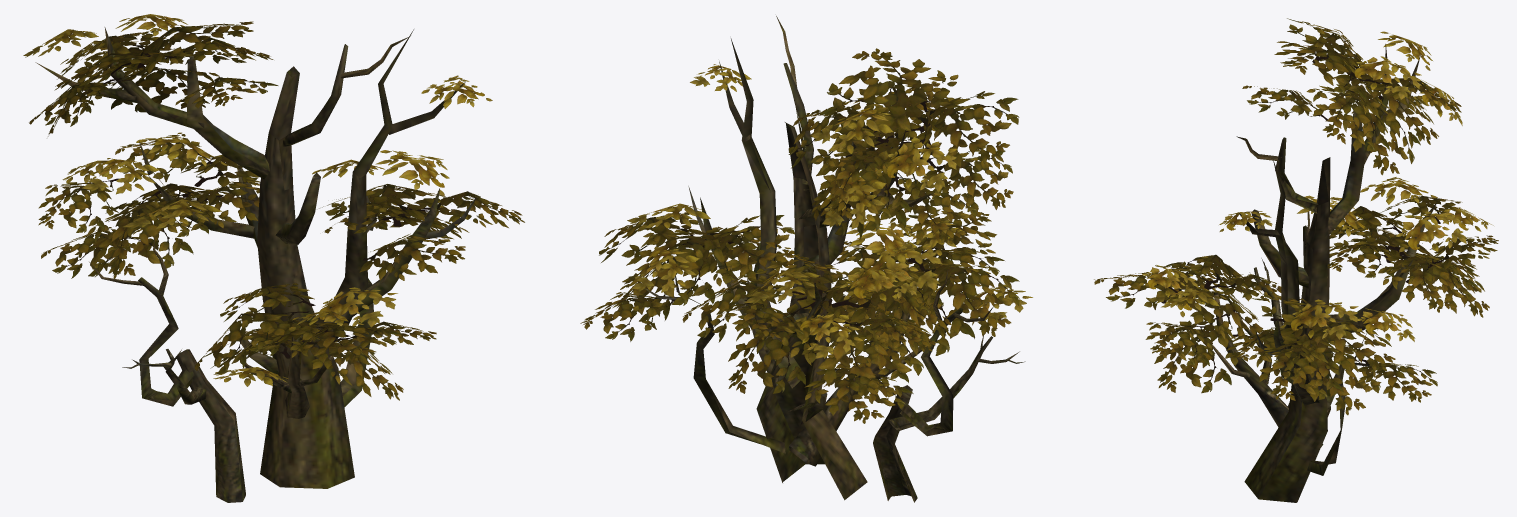
File: S_Tree_Yellow062_1.FBX
3 renders of one model, left to right at view 1: azimuth 30°, elevation 25°; view 2: azimuth 150°, elevation 25°; view 3: azimuth 270°, elevation 25°, orthographic. The views are drawn at different scales.
Visible parts, largest first — view 1: S_Tree_Yellow062_1; view 2: S_Tree_Yellow062_1; view 3: S_Tree_Yellow062_1.
Part boxes in pixels (x1,y1,x2,y2): S_Tree_Yellow062_1: [23, 14, 524, 502]; S_Tree_Yellow062_1: [580, 16, 1032, 502]; S_Tree_Yellow062_1: [1094, 18, 1498, 502].
Size of the model in its own units: 1089 by 989 by 1028.
